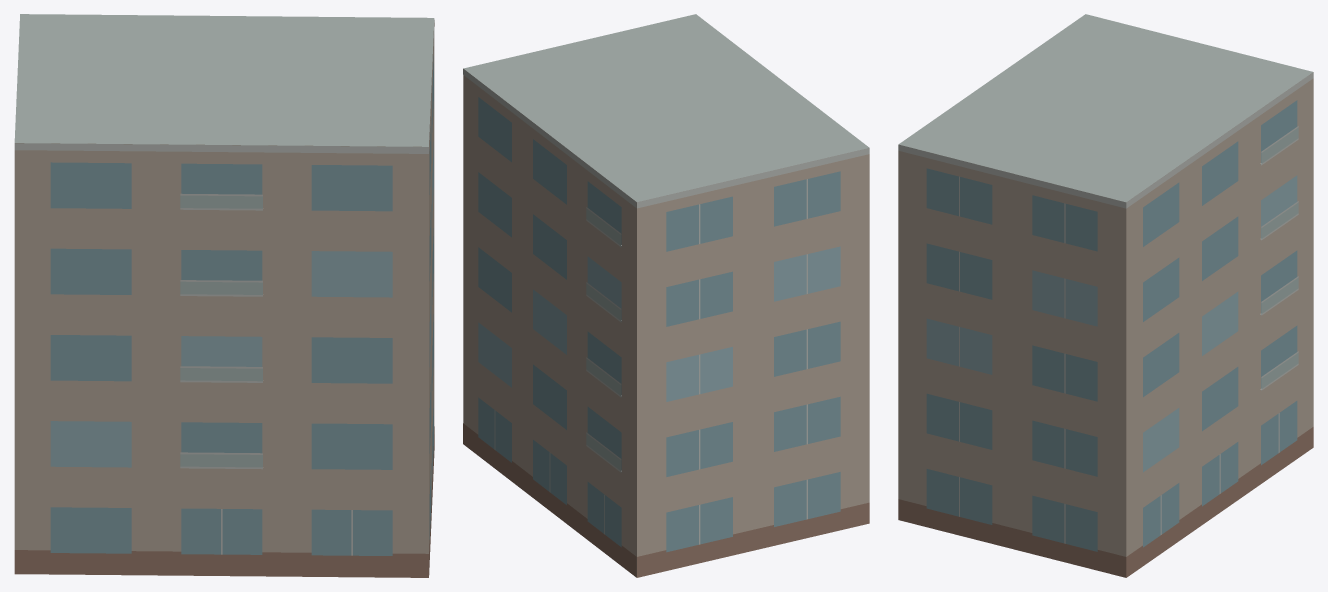
File: survey-upis-32717896.glb
The picture shows the model from 3 angles, left to right: view 1: azimuth 30°, elevation 25°; view 2: azimuth 150°, elevation 25°; view 3: azimuth 270°, elevation 25°; orthographic projection. The views are drawn at different scales.
Parts seen in each view (by area): view 1: survey-upis-32717896.tmp; view 2: survey-upis-32717896.tmp; view 3: survey-upis-32717896.tmp.
Part boxes in pixels (x1,y1,x2,y2): survey-upis-32717896.tmp: [14, 14, 434, 577]; survey-upis-32717896.tmp: [463, 14, 869, 577]; survey-upis-32717896.tmp: [898, 14, 1313, 577].
Bounding box in the file's own units: 15.82 × 14.7 × 14.74.
